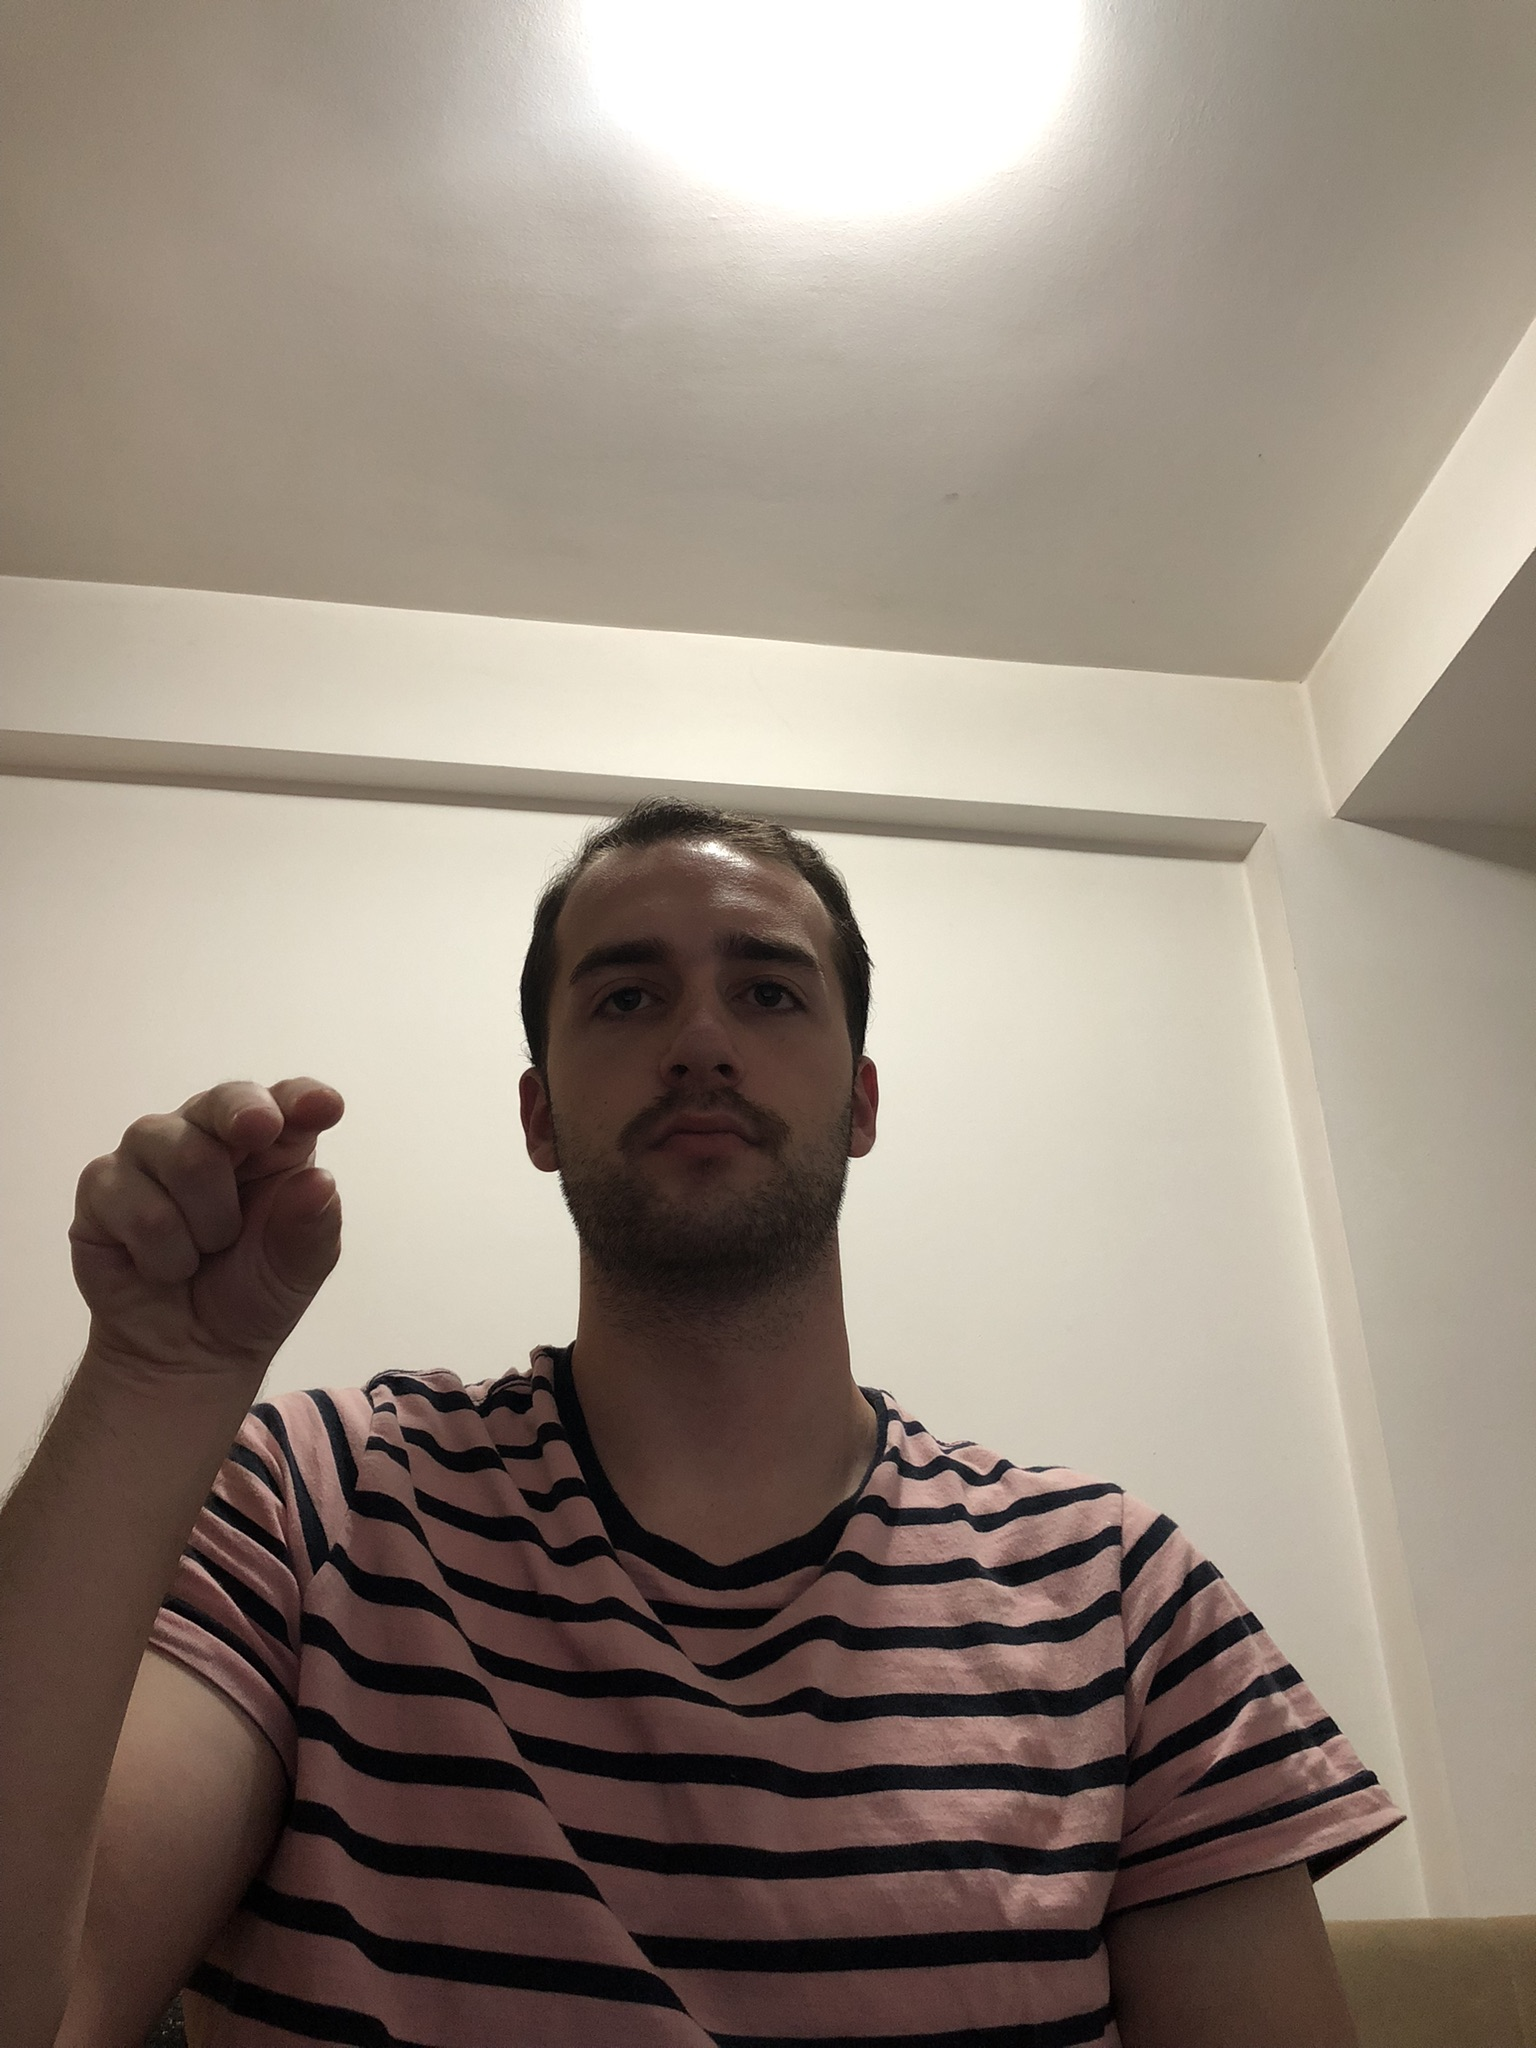No: (56, 1074, 366, 1406)
